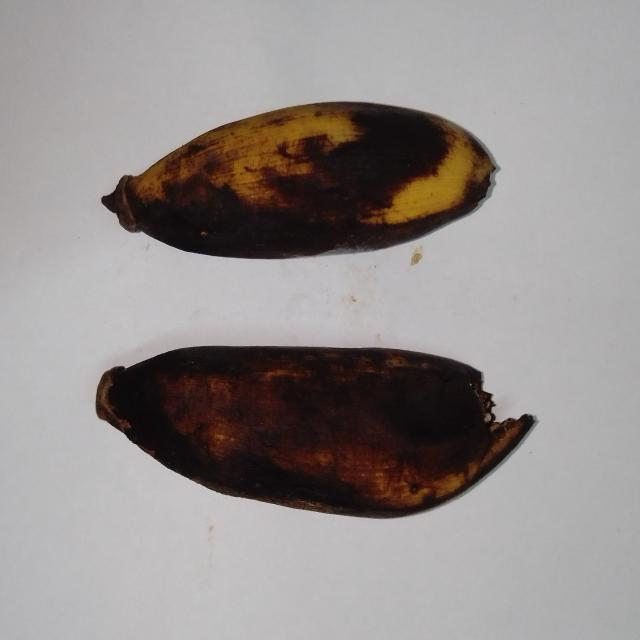banana: (97, 347, 533, 517), (103, 103, 494, 258)
